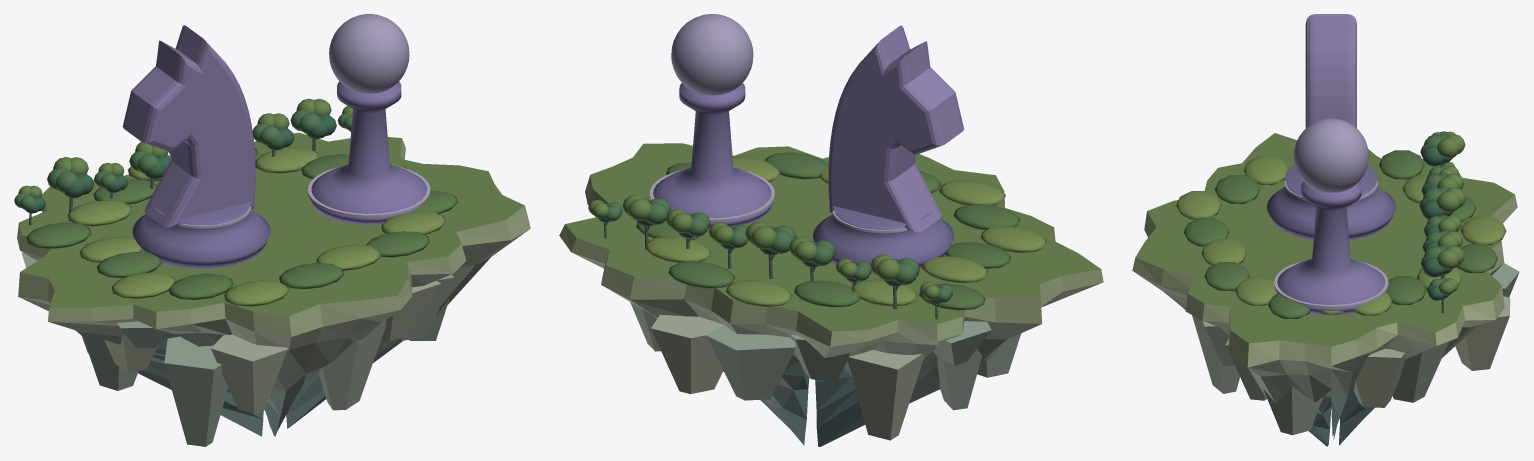
File: chess-island.glb
The picture shows the model from 3 angles, left to right: view 1: azimuth 30°, elevation 25°; view 2: azimuth 150°, elevation 25°; view 3: azimuth 270°, elevation 25°; orthographic projection. The views are drawn at different scales.
Parts seen in each view (by area): view 1: chess-island; view 2: chess-island; view 3: chess-island.
Part boxes in pixels (x1,y1,x2,y2): chess-island: (14, 14, 530, 446); chess-island: (559, 14, 1103, 446); chess-island: (1132, 14, 1519, 446).
Size of the model in its own units: 17.07 by 14.42 by 12.86.
